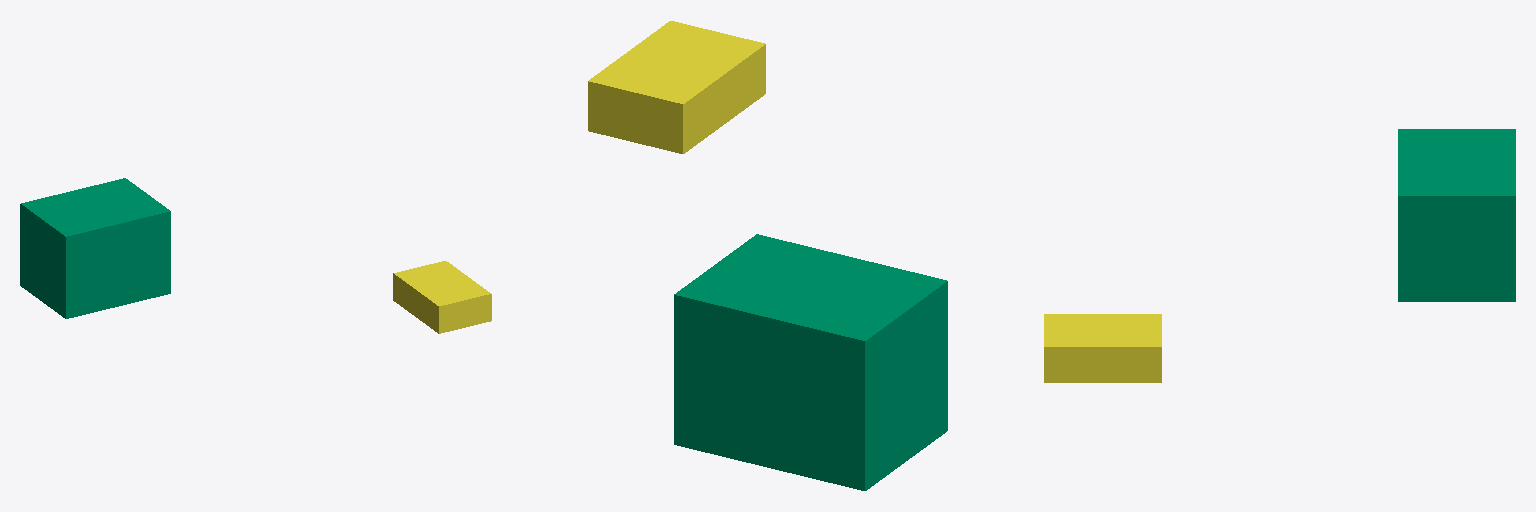
URDF robot description (iiwa14):
<?xml version="1.0" ?>
<!-- =================================================================================== -->
<!-- |    This document was autogenerated by xacro from [local-path]/kuka_ws/src/iiwa_stack/iiwa_description/urdf/iiwa14.urdf.xacro | -->
<!-- |    EDITING THIS FILE BY HAND IS NOT RECOMMENDED                                 | -->
<!-- =================================================================================== -->
<robot name="iiwa14" xmlns:xacro="http://www.ros.org/wiki/xacro">
  <material name="Black">
    <color rgba="0.0 0.0 0.0 1.0"/>
  </material>
  <material name="Blue">
    <color rgba="0.0 0.0 0.8 1.0"/>
  </material>
  <material name="Green">
    <color rgba="0.0 0.8 0.0 1.0"/>
  </material>
  <material name="Grey">
    <color rgba="0.4 0.4 0.4 1.0"/>
  </material>
  <material name="Orange">
    <color rgba="1.0 0.423529411765 0.0392156862745 1.0"/>
  </material>
  <material name="Brown">
    <color rgba="0.870588235294 0.811764705882 0.764705882353 1.0"/>
  </material>
  <material name="Red">
    <color rgba="0.8 0.0 0.0 1.0"/>
  </material>
  <material name="White">
    <color rgba="1.0 1.0 1.0 1.0"/>
  </material>
  <!-- Fix to world just for testing -->
  <link name="world"/>
  <!--joint between {parent} and link_0-->
  <joint name="world_iiwa_joint" type="fixed">
    <origin rpy="0 0 0" xyz="0 0 0"/>
    <parent link="world"/>
    <child link="iiwa_link_0"/>
  </joint>
  <link name="iiwa_link_0">
    <inertial>
      <origin rpy="0 0 0" xyz="-0.1 0 0.07"/>
      <mass value="5"/>
      <inertia ixx="0.05" ixy="0" ixz="0" iyy="0.06" iyz="0" izz="0.03"/>
    </inertial>
    <visual>
      <origin rpy="0 0 0" xyz="0 0 0"/>
      <geometry>
        <mesh filename="[local-path]/Documents/research/roadmap_generator/iiwa_description/meshes/iiwa14/visual/link_0.stl"/>
      </geometry>
      <material name="Grey"/>
    </visual>
    <collision>
      <origin rpy="0 0 0" xyz="0 0 0"/>
      <geometry>
        <mesh filename="[local-path]/Documents/research/roadmap_generator/iiwa_description/meshes/iiwa14/collision/link_0.stl"/>
      </geometry>
      <material name="Grey"/>
    </collision>
    <self_collision_checking>
      <origin rpy="0 0 0" xyz="0 0 0"/>
      <geometry>
        <capsule length="0.25" radius="0.15"/>
      </geometry>
    </self_collision_checking>
  </link>
  <!-- joint between link_0 and link_1 -->
  <joint name="iiwa_joint_1" type="revolute">
    <parent link="iiwa_link_0"/>
    <child link="iiwa_link_1"/>
    <origin rpy="0 0 0" xyz="0 0 0.1575"/>
    <axis xyz="0 0 1"/>
    <limit effort="300" lower="-2.96705972839" upper="2.96705972839" velocity="60"/>
    <safety_controller k_position="100" k_velocity="2" soft_lower_limit="-2.93215314335" soft_upper_limit="2.93215314335"/>
    <dynamics damping="0.5"/>
  </joint>
  <link name="iiwa_link_1">
    <inertial>
      <origin rpy="0 0 0" xyz="0 -0.03 0.12"/>
      <mass value="4"/>
      <inertia ixx="0.1" ixy="0" ixz="0" iyy="0.09" iyz="0" izz="0.02"/>
    </inertial>
    <visual>
      <origin rpy="0 0 0" xyz="0 0 0"/>
      <geometry>
        <mesh filename="[local-path]/Documents/research/roadmap_generator/iiwa_description/meshes/iiwa14/visual/link_1.stl"/>
      </geometry>
      <material name="Orange"/>
    </visual>
    <collision>
      <origin rpy="0 0 0" xyz="0 0 0"/>
      <geometry>
        <mesh filename="[local-path]/Documents/research/roadmap_generator/iiwa_description/meshes/iiwa14/collision/link_1.stl"/>
      </geometry>
      <material name="Orange"/>
    </collision>
  </link>
  <!-- joint between link_1 and link_2 -->
  <joint name="iiwa_joint_2" type="revolute">
    <parent link="iiwa_link_1"/>
    <child link="iiwa_link_2"/>
    <origin rpy="1.57079632679   0 3.14159265359" xyz="0 0 0.2025"/>
    <axis xyz="0 0 1"/>
    <limit effort="300" lower="-2.09439510239" upper="2.09439510239" velocity="60"/>
    <safety_controller k_position="100" k_velocity="2" soft_lower_limit="-2.05948851735" soft_upper_limit="2.05948851735"/>
    <dynamics damping="0.5"/>
  </joint>
  <link name="iiwa_link_2">
    <inertial>
      <origin rpy="0 0 0" xyz="0.0003 0.059 0.042"/>
      <mass value="4"/>
      <inertia ixx="0.05" ixy="0" ixz="0" iyy="0.018" iyz="0" izz="0.044"/>
    </inertial>
    <visual>
      <origin rpy="0 0 0" xyz="0 0 0"/>
      <geometry>
        <mesh filename="[local-path]/Documents/research/roadmap_generator/iiwa_description/meshes/iiwa14/visual/link_2.stl"/>
      </geometry>
      <material name="Orange"/>
    </visual>
    <collision>
      <origin rpy="0 0 0" xyz="0 0 0"/>
      <geometry>
        <mesh filename="[local-path]/Documents/research/roadmap_generator/iiwa_description/meshes/iiwa14/collision/link_2.stl"/>
      </geometry>
      <material name="Orange"/>
    </collision>
  </link>
  <!-- joint between link_2 and link_3 -->
  <joint name="iiwa_joint_3" type="revolute">
    <parent link="iiwa_link_2"/>
    <child link="iiwa_link_3"/>
    <origin rpy="1.57079632679 0 3.14159265359" xyz="0 0.2045 0"/>
    <axis xyz="0 0 1"/>
    <limit effort="300" lower="-2.96705972839" upper="2.96705972839" velocity="60"/>
    <safety_controller k_position="100" k_velocity="2" soft_lower_limit="-2.93215314335" soft_upper_limit="2.93215314335"/>
    <dynamics damping="0.5"/>
  </joint>
  <link name="iiwa_link_3">
    <inertial>
      <origin rpy="0 0 0" xyz="0 0.03 0.13"/>
      <mass value="3"/>
      <inertia ixx="0.08" ixy="0" ixz="0" iyy="0.075" iyz="0" izz="0.01"/>
    </inertial>
    <visual>
      <origin rpy="0 0 0" xyz="0 0 0"/>
      <geometry>
        <mesh filename="[local-path]/Documents/research/roadmap_generator/iiwa_description/meshes/iiwa14/visual/link_3.stl"/>
      </geometry>
      <material name="Orange"/>
    </visual>
    <collision>
      <origin rpy="0 0 0" xyz="0 0 0"/>
      <geometry>
        <mesh filename="[local-path]/Documents/research/roadmap_generator/iiwa_description/meshes/iiwa14/collision/link_3.stl"/>
      </geometry>
      <material name="Orange"/>
    </collision>
  </link>
  <!-- joint between link_3 and link_4 -->
  <joint name="iiwa_joint_4" type="revolute">
    <parent link="iiwa_link_3"/>
    <child link="iiwa_link_4"/>
    <origin rpy="1.57079632679 0 0" xyz="0 0 0.2155"/>
    <axis xyz="0 0 1"/>
    <limit effort="300" lower="-2.09439510239" upper="2.09439510239" velocity="60"/>
    <safety_controller k_position="100" k_velocity="2" soft_lower_limit="-2.05948851735" soft_upper_limit="2.05948851735"/>
    <dynamics damping="0.5"/>
  </joint>
  <link name="iiwa_link_4">
    <inertial>
      <origin rpy="0 0 0" xyz="0 0.067 0.034"/>
      <mass value="2.7"/>
      <inertia ixx="0.03" ixy="0" ixz="0" iyy="0.01" iyz="0" izz="0.029"/>
    </inertial>
    <visual>
      <origin rpy="0 0 0" xyz="0 0 0"/>
      <geometry>
        <mesh filename="[local-path]/Documents/research/roadmap_generator/iiwa_description/meshes/iiwa14/visual/link_4.stl"/>
      </geometry>
      <material name="Orange"/>
    </visual>
    <collision>
      <origin rpy="0 0 0" xyz="0 0 0"/>
      <geometry>
        <mesh filename="[local-path]/Documents/research/roadmap_generator/iiwa_description/meshes/iiwa14/collision/link_4.stl"/>
      </geometry>
      <material name="Orange"/>
    </collision>
  </link>
  <!-- joint between link_4 and link_5 -->
  <joint name="iiwa_joint_5" type="revolute">
    <parent link="iiwa_link_4"/>
    <child link="iiwa_link_5"/>
    <origin rpy="-1.57079632679 3.14159265359 0" xyz="0 0.1845 0"/>
    <axis xyz="0 0 1"/>
    <limit effort="300" lower="-2.96705972839" upper="2.96705972839" velocity="60"/>
    <safety_controller k_position="100" k_velocity="2" soft_lower_limit="-2.93215314335" soft_upper_limit="2.93215314335"/>
    <dynamics damping="0.5"/>
  </joint>
  <link name="iiwa_link_5">
    <inertial>
      <origin rpy="0 0 0" xyz="0.0001 0.021 0.076"/>
      <mass value="1.7"/>
      <inertia ixx="0.02" ixy="0" ixz="0" iyy="0.018" iyz="0" izz="0.005"/>
    </inertial>
    <visual>
      <origin rpy="0 0 0" xyz="0 0 0"/>
      <geometry>
        <mesh filename="[local-path]/Documents/research/roadmap_generator/iiwa_description/meshes/iiwa14/visual/link_5.stl"/>
      </geometry>
      <material name="Orange"/>
    </visual>
    <collision>
      <origin rpy="0 0 0" xyz="0 0 0"/>
      <geometry>
        <mesh filename="[local-path]/Documents/research/roadmap_generator/iiwa_description/meshes/iiwa14/collision/link_5.stl"/>
      </geometry>
      <material name="Orange"/>
    </collision>
  </link>
  <!-- joint between link_5 and link_6 -->
  <joint name="iiwa_joint_6" type="revolute">
    <parent link="iiwa_link_5"/>
    <child link="iiwa_link_6"/>
    <origin rpy="1.57079632679 0 0" xyz="0 0 0.2155"/>
    <axis xyz="0 0 1"/>
    <limit effort="300" lower="-2.09439510239" upper="2.09439510239" velocity="60"/>
    <safety_controller k_position="100" k_velocity="2" soft_lower_limit="-2.05948851735" soft_upper_limit="2.05948851735"/>
    <dynamics damping="0.5"/>
  </joint>
  <link name="iiwa_link_6">
    <inertial>
      <origin rpy="0 0 0" xyz="0 0.0006 0.0004"/>
      <mass value="1.8"/>
      <inertia ixx="0.005" ixy="0" ixz="0" iyy="0.0036" iyz="0" izz="0.0047"/>
    </inertial>
    <visual>
      <origin rpy="0 0 0" xyz="0 0 0"/>
      <geometry>
        <mesh filename="[local-path]/Documents/research/roadmap_generator/iiwa_description/meshes/iiwa14/visual/link_6.stl"/>
      </geometry>
      <material name="Orange"/>
    </visual>
    <collision>
      <origin rpy="0 0 0" xyz="0 0 0"/>
      <geometry>
        <mesh filename="[local-path]/Documents/research/roadmap_generator/iiwa_description/meshes/iiwa14/collision/link_6.stl"/>
      </geometry>
      <material name="Orange"/>
    </collision>
  </link>
  <!-- joint between link_6 and link_7 -->
  <joint name="iiwa_joint_7" type="revolute">
    <parent link="iiwa_link_6"/>
    <child link="iiwa_link_7"/>
    <origin rpy="-1.57079632679 3.14159265359 0" xyz="0 0.081 0"/>
    <axis xyz="0 0 1"/>
    <limit effort="300" lower="-3.05432619099" upper="3.05432619099" velocity="60"/>
    <safety_controller k_position="100" k_velocity="2" soft_lower_limit="-3.01941960595" soft_upper_limit="3.01941960595"/>
    <dynamics damping="0.5"/>
  </joint>
  <link name="iiwa_link_7">
    <inertial>
      <origin rpy="0 0 0" xyz="0 0 0.02"/>
      <mass value="0.3"/>
      <inertia ixx="0.001" ixy="0" ixz="0" iyy="0.001" iyz="0" izz="0.001"/>
    </inertial>
    <visual>
      <origin rpy="0 0 0" xyz="0 0 0"/>
      <geometry>
        <mesh filename="[local-path]/Documents/research/roadmap_generator/iiwa_description/meshes/iiwa14/visual/link_7.stl"/>
      </geometry>
      <material name="Grey"/>
    </visual>
    <collision>
      <origin rpy="0 0 0" xyz="0 0 0"/>
      <geometry>
        <mesh filename="[local-path]/Documents/research/roadmap_generator/iiwa_description/meshes/iiwa14/collision/link_7.stl"/>
      </geometry>
      <material name="Grey"/>
    </collision>
  </link>
  <joint name="iiwa_joint_ee" type="fixed">
    <parent link="iiwa_link_7"/>
    <child link="iiwa_link_ee"/>
    <!--<origin xyz="0 0 0.045" rpy="0 0 0"/>-->
    <origin rpy="0 0 0" xyz="0 0 0.068"/>
    <!-- <origin xyz="-0.005 -0.01 0.068" rpy="0 0 0"/> -->
  </joint>
  <link name="iiwa_link_ee">
    <inertial>
      <origin rpy="0 0 0" xyz="0 0 0"/>
      <mass value="0.3"/>
      <inertia ixx="0.001" ixy="0" ixz="0" iyy="0.001" iyz="0" izz="0.001"/>
    </inertial>
    <!-- <visual>
        <origin xyz="-0.00367 0.00886 0.0044" rpy="3.14159 0 1.9634"/>
        <geometry>
          <mesh filename="[local-path]/Documents/research/roadmap_generator/iiwa_description/meshes/iiwa14/visual/suction.stl"/>
        </geometry>
        <material name="Black"/>
      </visual>
      
      <collision>
        <origin xyz="-0.00367 0.00886 0.0044" rpy="3.14159 0 1.9634"/>
        <geometry>
          <mesh filename="[local-path]/Documents/research/roadmap_generator/iiwa_description/meshes/iiwa14/collision/suction_collision.stl"/>
        </geometry>
        <material name="Black"/>
      </collision> -->
    <visual>
      <origin rpy="0 0 0" xyz="0 0 0"/>
      <!-- <origin xyz="-0.002 -0.005 0" rpy="0 0 1.57"/> -->
      <geometry>
        <!-- <mesh filename="[local-path]/Documents/research/roadmap_generator/iiwa_description/meshes/iiwa14/visual/VG3010_UR_Adapter_JDX_VacGrip_v2.stl"/> -->
        <mesh filename="[local-path]/Documents/research/roadmap_generator/iiwa_description/meshes/iiwa14/visual/cube.stl"/>
        <!-- <mesh filename="[local-path]/Documents/research/roadmap_generator/iiwa_description/meshes/iiwa14/visual/jdx_gripper_short.stl"/> -->
      </geometry>
      <material name="Black"/>
    </visual>
    <collision>
      <origin rpy="0 0 0" xyz="0 0 0"/>
      <!-- <origin xyz="-0.002 -0.005 0" rpy="0 0 1.57"/> -->
      <geometry>
        <!-- <mesh filename="[local-path]/Documents/research/roadmap_generator/iiwa_description/meshes/iiwa14/collision/VG3010_UR_Adapter_JDX_VacGrip_v2.stl"/> -->
        <mesh filename="[local-path]/Documents/research/roadmap_generator/iiwa_description/meshes/iiwa14/collision/cube.stl"/>
        <!-- <mesh filename="[local-path]/Documents/research/roadmap_generator/iiwa_description/meshes/iiwa14/visual/jdx_gripper_short.stl"/> -->
      </geometry>
      <material name="Black"/>
    </collision>
  </link>
  <joint name="iiwa_joint_wiring" type="fixed">
    <parent link="iiwa_link_7"/>
    <child link="iiwa_link_wiring"/>
    <!--<origin xyz="0 0 0.045" rpy="0 0 0"/>-->
    <origin rpy="0 0 0" xyz="0 0 0.068"/>
  </joint>
  <link name="iiwa_link_wiring">
    <inertial>
      <origin rpy="0 0 0" xyz="0 0 0"/>
      <mass value="0.3"/>
      <inertia ixx="0.001" ixy="0" ixz="0" iyy="0.001" iyz="0" izz="0.001"/>
    </inertial>
    <!-- <visual>
        <origin xyz="-0.00367 0.00886 0.0044" rpy="3.14159 0 1.9634"/>
        <geometry>
          <mesh filename="[local-path]/Documents/research/roadmap_generator/iiwa_description/meshes/iiwa14/visual/suction.stl"/>
        </geometry>
        <material name="Black"/>
      </visual>
      
      <collision>
        <origin xyz="-0.00367 0.00886 0.0044" rpy="3.14159 0 1.9634"/>
        <geometry>
          <mesh filename="[local-path]/Documents/research/roadmap_generator/iiwa_description/meshes/iiwa14/collision/suction_collision.stl"/>
        </geometry>
        <material name="Black"/>
      </collision> -->
    <visual>
      <origin rpy="0 0 0" xyz="0 0.09 -0.05"/>
      <!-- <origin xyz="-0.002 -0.005 0" rpy="0 0 1.57"/> -->
      <geometry>
        <box size="0.04 0.03 0.03"/>
      </geometry>
      <material name="red"/>
    </visual>
    <collision>
      <origin rpy="0 0 0" xyz="0 0.09 -0.05"/>
      <!-- <origin xyz="-0.002 -0.005 0" rpy="0 0 1.57"/> -->
      <geometry>
        <box size="0.04 0.03 0.03"/>
      </geometry>
      <material name="red"/>
    </collision>
  </link>
  <joint name="iiwa_joint_ft_connection" type="fixed">
    <parent link="iiwa_link_7"/>
    <child link="iiwa_link_ft_connection"/>
    <!--<origin xyz="0 0 0.045" rpy="0 0 0"/>-->
    <origin rpy="0 0 0" xyz="0 0 0.068"/>
  </joint>
  <link name="iiwa_link_ft_connection">
    <inertial>
      <origin rpy="0 0 0" xyz="0 0 0"/>
      <mass value="0.3"/>
      <inertia ixx="0.001" ixy="0" ixz="0" iyy="0.001" iyz="0" izz="0.001"/>
    </inertial>
    <!-- <visual>
        <origin xyz="-0.00367 0.00886 0.0044" rpy="3.14159 0 1.9634"/>
        <geometry>
          <mesh filename="[local-path]/Documents/research/roadmap_generator/iiwa_description/meshes/iiwa14/visual/suction.stl"/>
        </geometry>
        <material name="Black"/>
      </visual>
      
      <collision>
        <origin xyz="-0.00367 0.00886 0.0044" rpy="3.14159 0 1.9634"/>
        <geometry>
          <mesh filename="[local-path]/Documents/research/roadmap_generator/iiwa_description/meshes/iiwa14/collision/suction_collision.stl"/>
        </geometry>
        <material name="Black"/>
      </collision> -->
    <visual>
      <origin rpy="0 0 0" xyz="0.08 0.0 -0.05"/>
      <!-- <origin xyz="-0.002 -0.005 0" rpy="0 0 1.57"/> -->
      <geometry>
        <box size="0.02 0.03 0.01"/>
      </geometry>
      <material name="red"/>
    </visual>
    <collision>
      <origin rpy="0 0 0" xyz="0.08 0 -0.05"/>
      <!-- <origin xyz="-0.002 -0.005 0" rpy="0 0 1.57"/> -->
      <geometry>
        <box size="0.02 0.03 0.01"/>
      </geometry>
      <material name="red"/>
    </collision>
  </link>
  <!-- Load Gazebo lib and set the robot namespace -->
  <!-- Link0 -->
  <gazebo reference="iiwa_link_0">
    <material>Gazebo/Grey</material>
    <mu1>0.2</mu1>
    <mu2>0.2</mu2>
  </gazebo>
  <!-- Link1 -->
  <gazebo reference="iiwa_link_1">
    <material>Gazebo/Orange</material>
    <mu1>0.2</mu1>
    <mu2>0.2</mu2>
  </gazebo>
  <!-- Link2 -->
  <gazebo reference="iiwa_link_2">
    <material>Gazebo/Orange</material>
    <mu1>0.2</mu1>
    <mu2>0.2</mu2>
  </gazebo>
  <!-- Link3 -->
  <gazebo reference="iiwa_link_3">
    <material>Gazebo/Orange</material>
    <mu1>0.2</mu1>
    <mu2>0.2</mu2>
  </gazebo>
  <!-- Link4 -->
  <gazebo reference="iiwa_link_4">
    <material>Gazebo/Orange</material>
    <mu1>0.2</mu1>
    <mu2>0.2</mu2>
  </gazebo>
  <!-- Link5 -->
  <gazebo reference="iiwa_link_5">
    <material>Gazebo/Orange</material>
    <mu1>0.2</mu1>
    <mu2>0.2</mu2>
  </gazebo>
  <!-- Link6 -->
  <gazebo reference="iiwa_link_6">
    <material>Gazebo/Orange</material>
    <mu1>0.2</mu1>
    <mu2>0.2</mu2>
  </gazebo>
  <!-- Link7 -->
  <gazebo reference="iiwa_link_7">
    <material>Gazebo/Grey</material>
    <mu1>0.2</mu1>
    <mu2>0.2</mu2>
  </gazebo>
  <transmission name="iiwa_tran_1">
    <robotNamespace>/iiwa</robotNamespace>
    <type>transmission_interface/SimpleTransmission</type>
    <joint name="iiwa_joint_1">
      <hardwareInterface>PositionJointInterface</hardwareInterface>
    </joint>
    <actuator name="iiwa_motor_1">
      <hardwareInterface>PositionJointInterface</hardwareInterface>
      <mechanicalReduction>1</mechanicalReduction>
    </actuator>
  </transmission>
  <transmission name="iiwa_tran_2">
    <robotNamespace>/iiwa</robotNamespace>
    <type>transmission_interface/SimpleTransmission</type>
    <joint name="iiwa_joint_2">
      <hardwareInterface>PositionJointInterface</hardwareInterface>
    </joint>
    <actuator name="iiwa_motor_2">
      <hardwareInterface>PositionJointInterface</hardwareInterface>
      <mechanicalReduction>1</mechanicalReduction>
    </actuator>
  </transmission>
  <transmission name="iiwa_tran_3">
    <robotNamespace>/iiwa</robotNamespace>
    <type>transmission_interface/SimpleTransmission</type>
    <joint name="iiwa_joint_3">
      <hardwareInterface>PositionJointInterface</hardwareInterface>
    </joint>
    <actuator name="iiwa_motor_3">
      <hardwareInterface>PositionJointInterface</hardwareInterface>
      <mechanicalReduction>1</mechanicalReduction>
    </actuator>
  </transmission>
  <transmission name="iiwa_tran_4">
    <robotNamespace>/iiwa</robotNamespace>
    <type>transmission_interface/SimpleTransmission</type>
    <joint name="iiwa_joint_4">
      <hardwareInterface>PositionJointInterface</hardwareInterface>
    </joint>
    <actuator name="iiwa_motor_4">
      <hardwareInterface>PositionJointInterface</hardwareInterface>
      <mechanicalReduction>1</mechanicalReduction>
    </actuator>
  </transmission>
  <transmission name="iiwa_tran_5">
    <robotNamespace>/iiwa</robotNamespace>
    <type>transmission_interface/SimpleTransmission</type>
    <joint name="iiwa_joint_5">
      <hardwareInterface>PositionJointInterface</hardwareInterface>
    </joint>
    <actuator name="iiwa_motor_5">
      <hardwareInterface>PositionJointInterface</hardwareInterface>
      <mechanicalReduction>1</mechanicalReduction>
    </actuator>
  </transmission>
  <transmission name="iiwa_tran_6">
    <robotNamespace>/iiwa</robotNamespace>
    <type>transmission_interface/SimpleTransmission</type>
    <joint name="iiwa_joint_6">
      <hardwareInterface>PositionJointInterface</hardwareInterface>
    </joint>
    <actuator name="iiwa_motor_6">
      <hardwareInterface>PositionJointInterface</hardwareInterface>
      <mechanicalReduction>1</mechanicalReduction>
    </actuator>
  </transmission>
  <transmission name="iiwa_tran_7">
    <robotNamespace>/iiwa</robotNamespace>
    <type>transmission_interface/SimpleTransmission</type>
    <joint name="iiwa_joint_7">
      <hardwareInterface>PositionJointInterface</hardwareInterface>
    </joint>
    <actuator name="iiwa_motor_7">
      <hardwareInterface>PositionJointInterface</hardwareInterface>
      <mechanicalReduction>1</mechanicalReduction>
    </actuator>
  </transmission>
  <gazebo>
    <plugin filename="libgazebo_ros_control.so" name="gazebo_ros_control">
      <robotNamespace>/iiwa</robotNamespace>
    </plugin>
  </gazebo>
  <gazebo>
    <plugin filename="libgazebo_grasp_fix.so" name="gazebo_grasp_fix">
      <arm>
        <arm_name>iiwa</arm_name>
        <palm_link> iiwa_link_7  </palm_link>
        <gripper_link> iiwa_link_ee </gripper_link>
      </arm>
      <forces_angle_tolerance>100</forces_angle_tolerance>
      <update_rate>4</update_rate>
      <grip_count_threshold>4</grip_count_threshold>
      <max_grip_count>8</max_grip_count>
      <release_tolerance>0.005</release_tolerance>
      <disable_collisions_on_attach>false</disable_collisions_on_attach>
      <contact_topic>__default_topic__</contact_topic>
    </plugin>
  </gazebo>
</robot>

--- Facts derived from the render (not from the file) ---
Views: 3 orthographic renders of the robot side by side, from view 1: azimuth 30°, elevation 25°; view 2: azimuth 150°, elevation 25°; view 3: azimuth 270°, elevation 25°.
Robot: iiwa14 — 12 links, 11 joints (7 revolute, 4 fixed); root link world; default pose: all joints at 0.
Visible links, largest first — view 1: iiwa_link_wiring, iiwa_link_ft_connection; view 2: iiwa_link_wiring, iiwa_link_ft_connection; view 3: iiwa_link_wiring, iiwa_link_ft_connection.
Link boxes in pixels (x1,y1,x2,y2): iiwa_link_wiring: [20, 178, 170, 318]; iiwa_link_ft_connection: [393, 261, 491, 333]; iiwa_link_wiring: [674, 234, 947, 490]; iiwa_link_ft_connection: [588, 21, 765, 153]; iiwa_link_wiring: [1398, 129, 1515, 301]; iiwa_link_ft_connection: [1044, 314, 1161, 382].
Bounding box of the posed robot: 0.11 × 0.12 × 0.03 m (x, y, z).
Geometry: only primitive shapes (box / cylinder / sphere) drawn; not drawn: 9 mesh visuals (reference in a form the renderer does not follow).